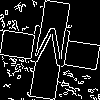M: (25, 25, 74, 76)
